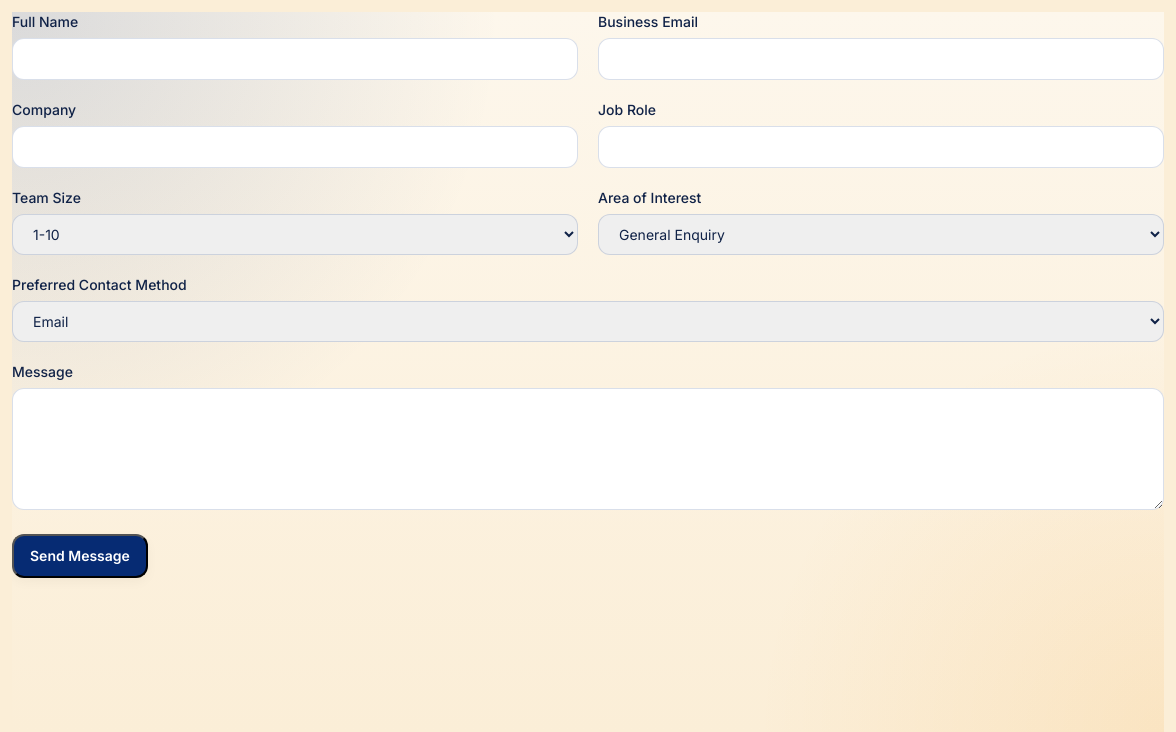
ContactForm › shows validation errors when required fields are empty
Click the button "Send Message" at point(80, 556), box x1=12 y1=534 x2=148 y2=578
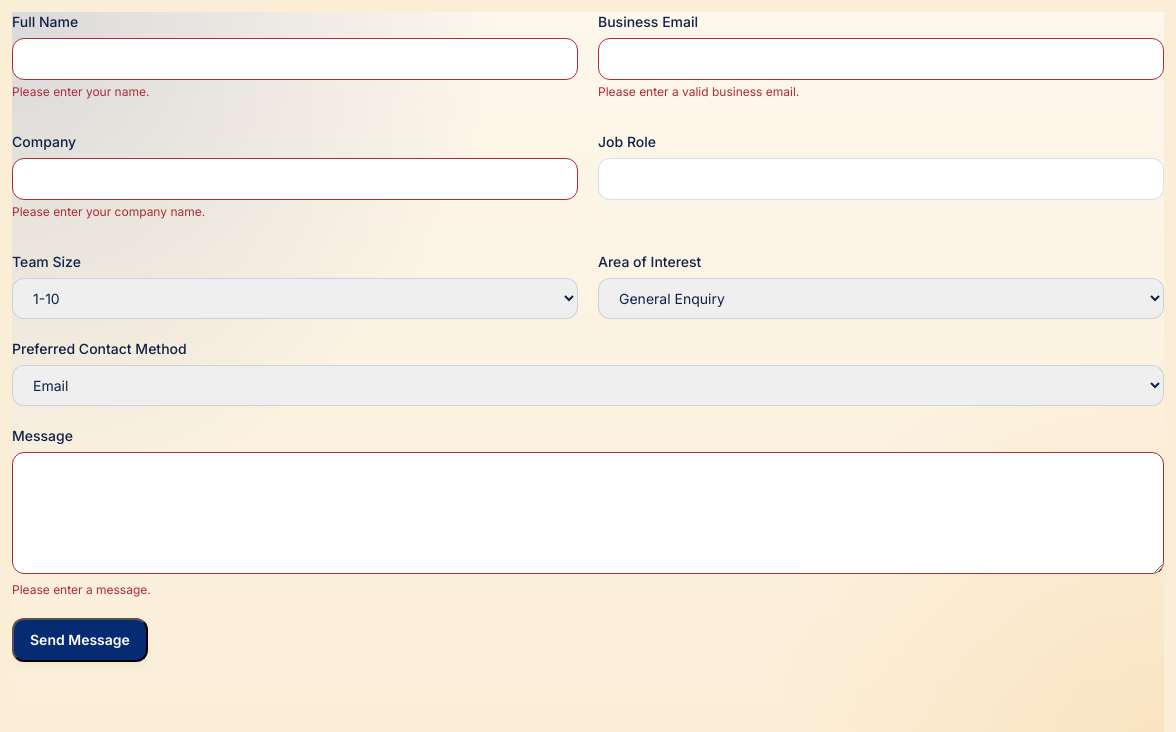
Expected: the text "Please enter your name." is shown, x1=12 y1=84 x2=149 y2=99
Expected: the text "Please enter a valid business email." is shown, x1=598 y1=84 x2=799 y2=99
Expected: the text "Please enter your company name." is shown, x1=12 y1=204 x2=205 y2=219
